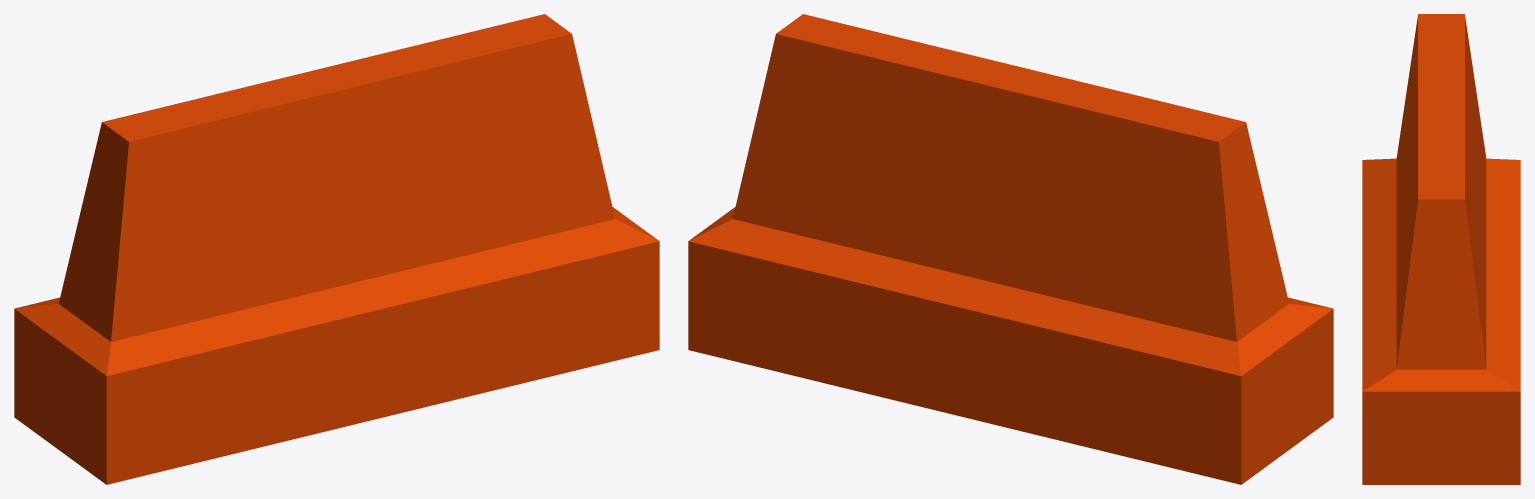
The model's file is Environment_Barrior.fbx.
The picture shows the model from 3 angles, left to right: view 1: azimuth 30°, elevation 25°; view 2: azimuth 150°, elevation 25°; view 3: azimuth 270°, elevation 25°; orthographic projection. The views are drawn at different scales.
Visible parts, largest first — view 1: Barrior; view 2: Barrior; view 3: Barrior.
Part boxes in pixels (left/top/right/bottom): Barrior: left=14, top=14, right=659, bottom=484; Barrior: left=688, top=14, right=1333, bottom=484; Barrior: left=1362, top=14, right=1520, bottom=484.
Size of the model in its own units: 2.78 by 1.47 by 0.8043.
